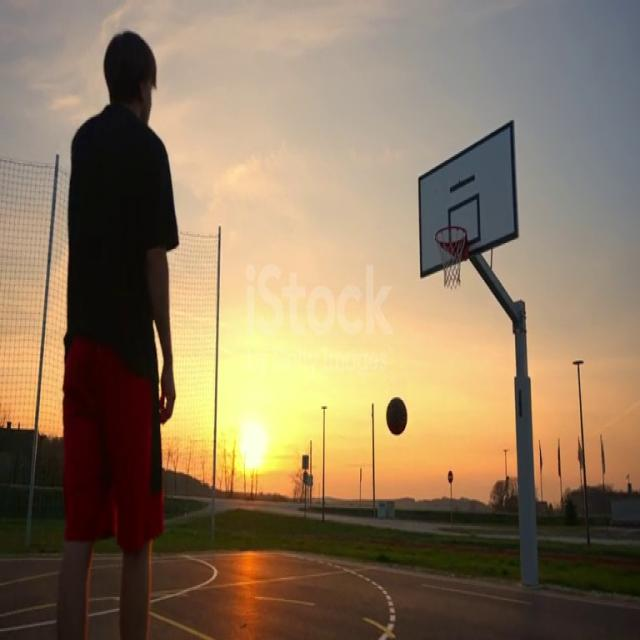ball: (386, 397, 407, 436)
